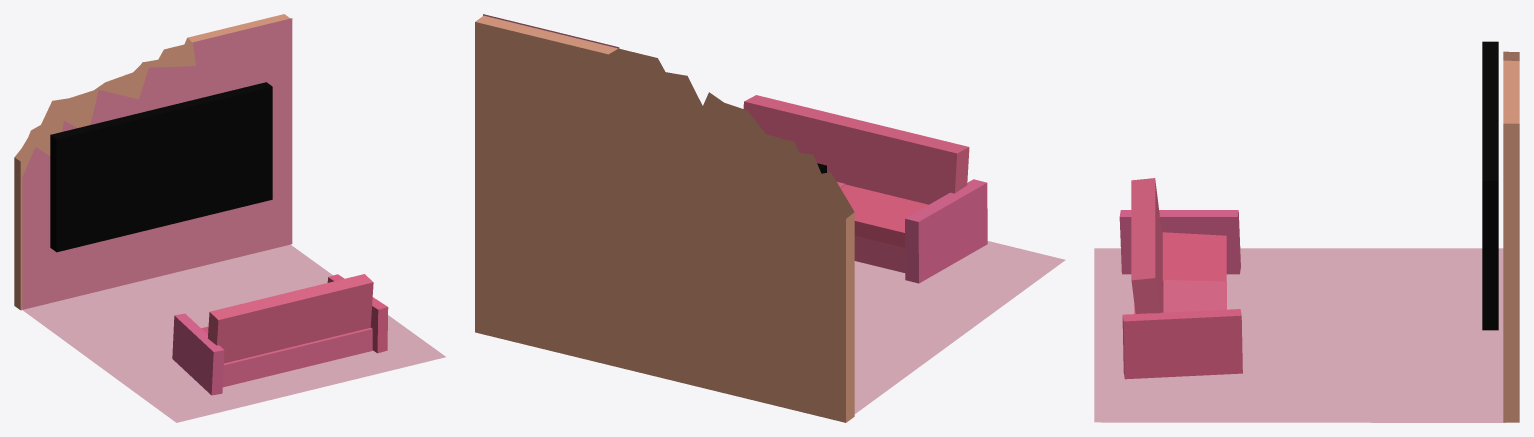
The model's file is Transcendance.glb.
The picture shows the model from 3 angles, left to right: view 1: azimuth 30°, elevation 25°; view 2: azimuth 150°, elevation 25°; view 3: azimuth 270°, elevation 25°; orthographic projection. The views are drawn at different scales.
Visible parts, largest first — view 1: mur, Tele, sol, Cube.002, Cube, Cube.001, Cube.005, Cube.006; view 2: Cube, sol, Cube.002, Cube.005, Cube.004, Cube.001; view 3: sol, Cube.006, Cube, Tele, Cube.002, Cube.005, Cube.004, Cube.003.
Part boxes in pixels (x1,y1,x2,y2): mur: [22, 18, 292, 309]; Tele: [50, 82, 272, 252]; sol: [22, 244, 445, 422]; Cube.002: [208, 274, 373, 363]; Cube: [14, 14, 290, 310]; Cube.001: [222, 327, 372, 387]; Cube.005: [172, 313, 224, 395]; Cube.006: [327, 274, 388, 353]; Cube: [475, 15, 854, 422]; sol: [854, 241, 1065, 413]; Cube.002: [743, 95, 969, 204]; Cube.005: [905, 179, 987, 283]; Cube.004: [840, 184, 928, 247]; Cube.001: [854, 235, 905, 272]; sol: [1094, 248, 1505, 422]; Cube.006: [1122, 309, 1242, 379]; Cube: [1503, 51, 1519, 422]; Tele: [1482, 41, 1498, 330]; Cube.002: [1131, 178, 1162, 313]; Cube.005: [1119, 210, 1240, 274]; Cube.004: [1162, 232, 1226, 291]; Cube.003: [1163, 280, 1226, 312].
Size of the model in its own units: 5.02 by 4.01 by 5.17.
